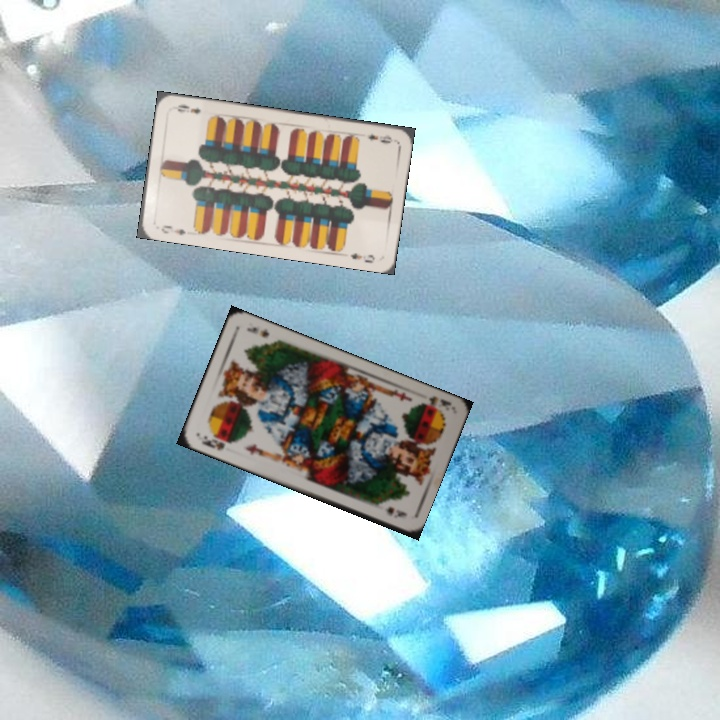E9: (157, 221, 189, 238), (364, 130, 395, 146)
SK: (418, 392, 454, 414), (197, 432, 227, 453)
